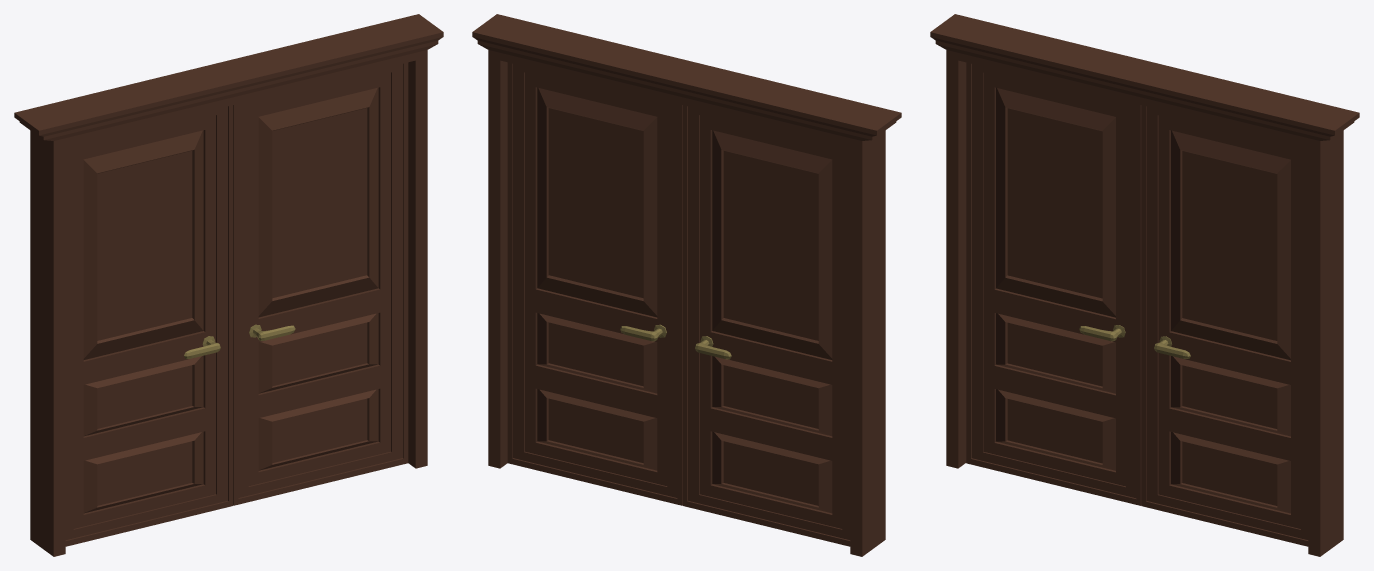
Rendered from Exec_doors.fbx.
3 renders of one model, left to right at view 1: azimuth 30°, elevation 25°; view 2: azimuth 150°, elevation 25°; view 3: azimuth 330°, elevation 25°, orthographic.
Parts seen in each view (by area): view 1: Door, DoorFrame; view 2: Door, DoorFrame; view 3: Door, DoorFrame.
Boxes of the visible parts, x1,y1,x2,y2 form: Door: (65,62,408,546); DoorFrame: (14,14,443,556); Door: (507,62,850,546); DoorFrame: (472,14,901,556); Door: (966,62,1308,546); DoorFrame: (930,14,1359,556).
Bounding box in the file's own units: 216 × 220 × 22.9.
